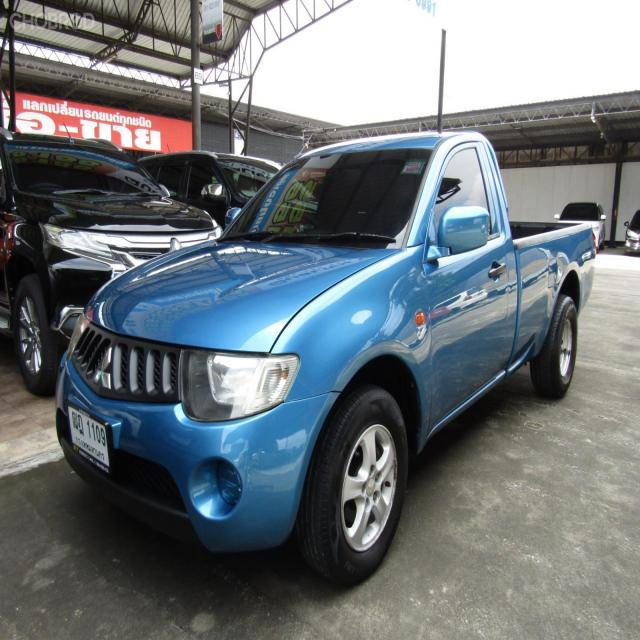license_plate: (63, 400, 117, 481)
